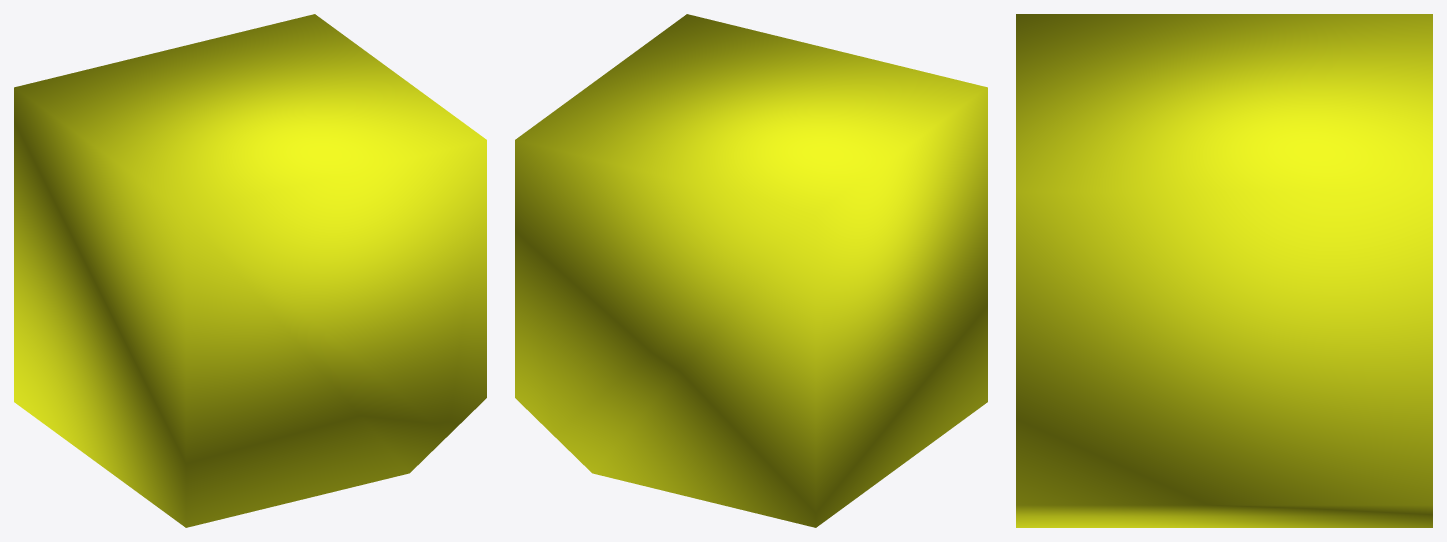
File: membre4.fbx
3 views of the same model, side by side, from view 1: azimuth 30°, elevation 25°; view 2: azimuth 150°, elevation 25°; view 3: azimuth 270°, elevation 25° (orthographic). The views are drawn at different scales.
Visible parts, largest first — view 1: membre4; view 2: membre4; view 3: membre4.
Boxes of the visible parts, <box> form: membre4: <box>14,14,486,527</box>; membre4: <box>515,14,987,527</box>; membre4: <box>1016,14,1432,527</box>.
Bounding box in the file's own units: 195 × 195 × 193.
